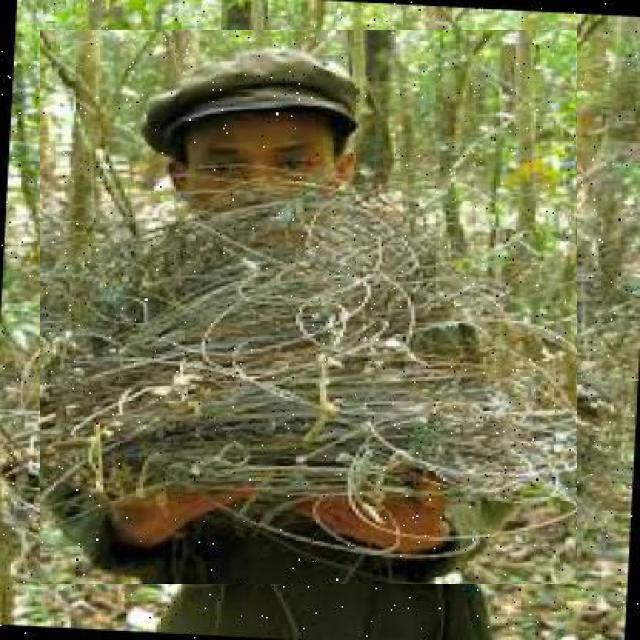poacher: (40, 31, 577, 584)
